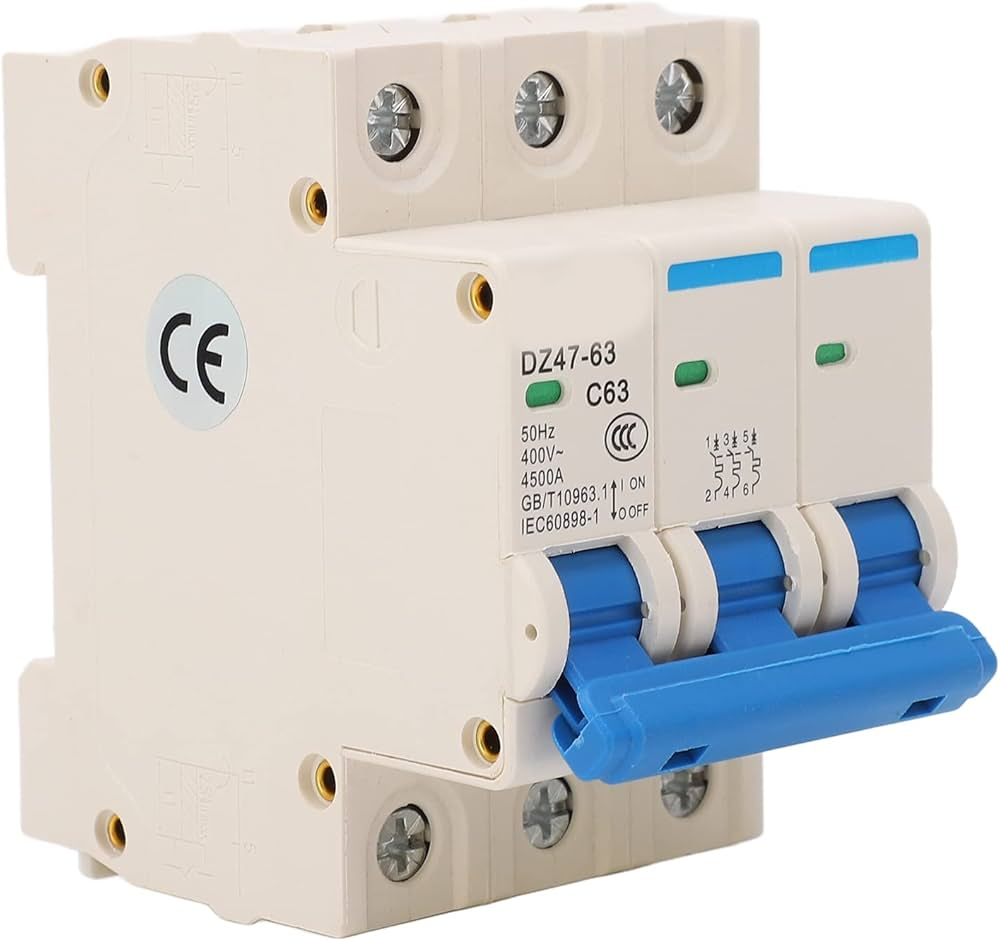devre_kesici: (1, 2, 1000, 941)
